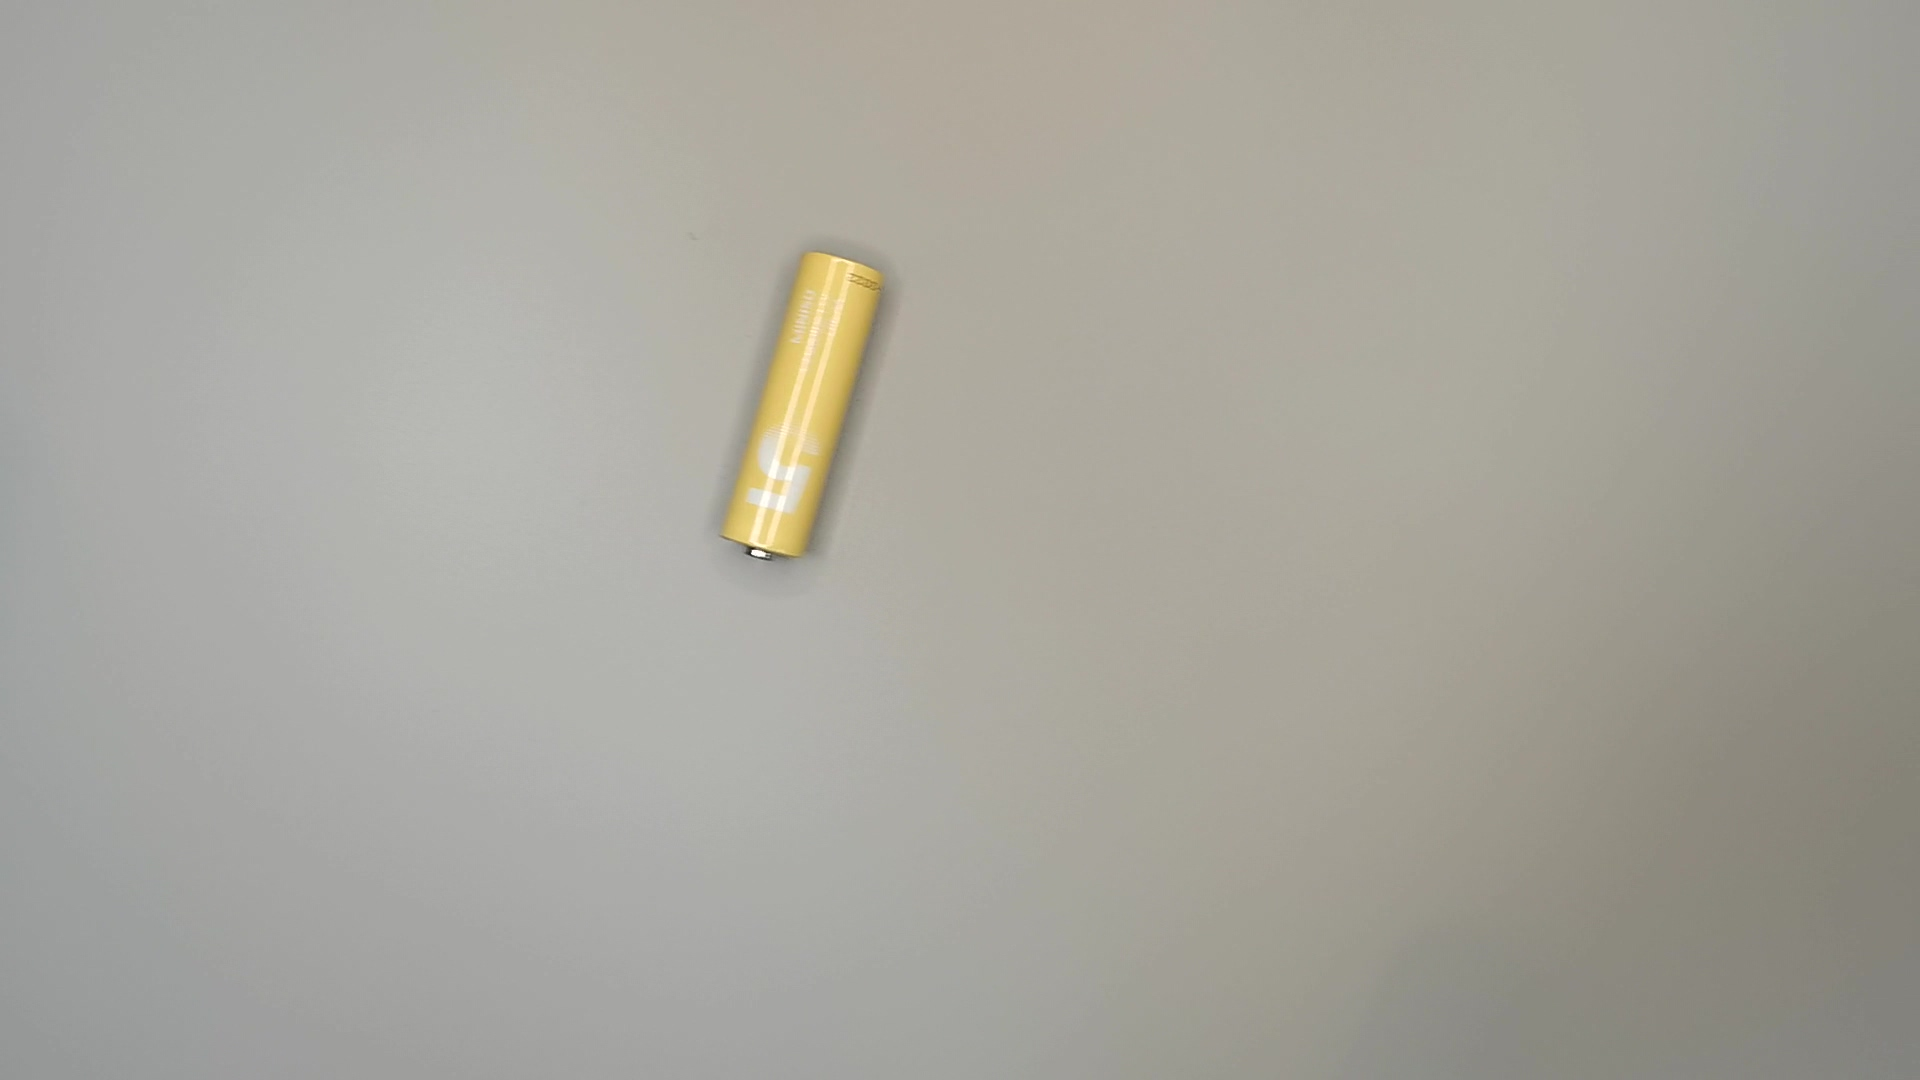battery: (703, 245, 903, 571)
